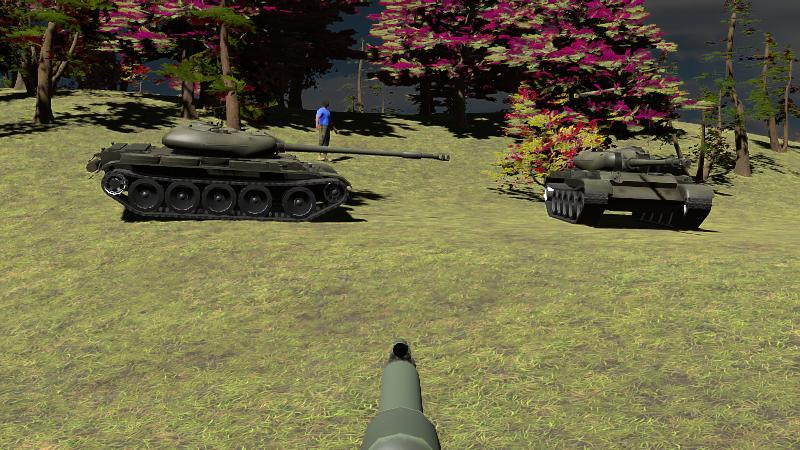Human: (315, 98, 337, 163)
Tank: (86, 122, 446, 222), (544, 145, 714, 232)
